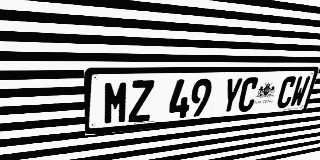4: (168, 79, 193, 119)
9: (188, 78, 213, 117)
C: (236, 77, 260, 112), (275, 76, 298, 109)
M: (103, 81, 129, 125)
W: (289, 76, 311, 107)
Y: (219, 78, 244, 114)
Z: (128, 80, 154, 123)
